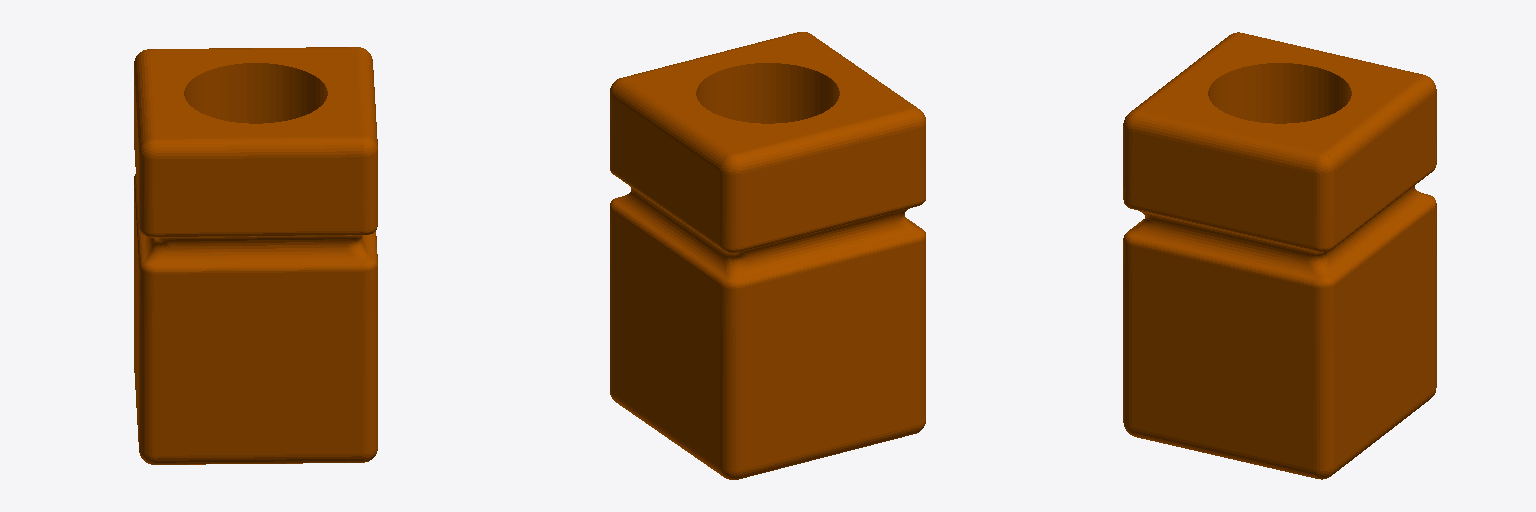
The model's file is petit-carre-trou-jaune.obj.
The picture shows the model from 3 angles: view 1: azimuth 30°, elevation 25°; view 2: azimuth 150°, elevation 25°; view 3: azimuth 270°, elevation 25°; orthographic projection.
Parts seen in each view (by area): view 1: quarto-pieces.006; view 2: quarto-pieces.006; view 3: quarto-pieces.006.
Part boxes in pixels (left/top/right/bottom): quarto-pieces.006: left=134, top=47, right=377, bottom=464; quarto-pieces.006: left=610, top=32, right=925, bottom=479; quarto-pieces.006: left=1123, top=32, right=1436, bottom=479.
Bounding box in the file's own units: 39.27 × 45 × 39.27.